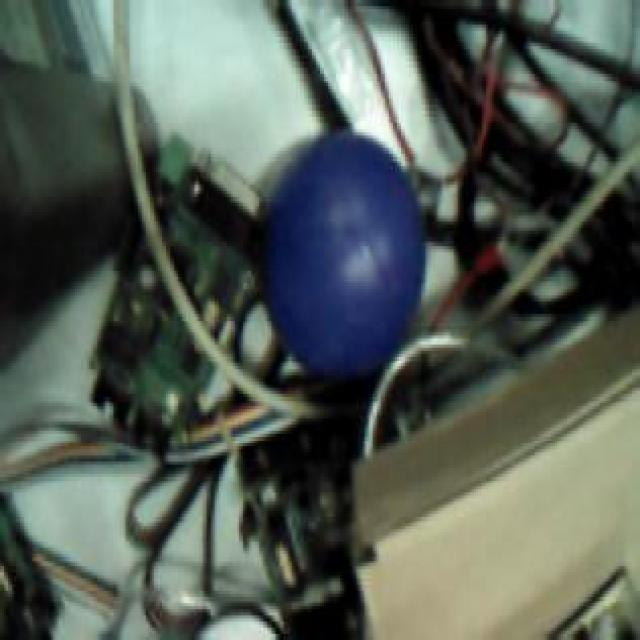BallPurple: (264, 129, 422, 380)
